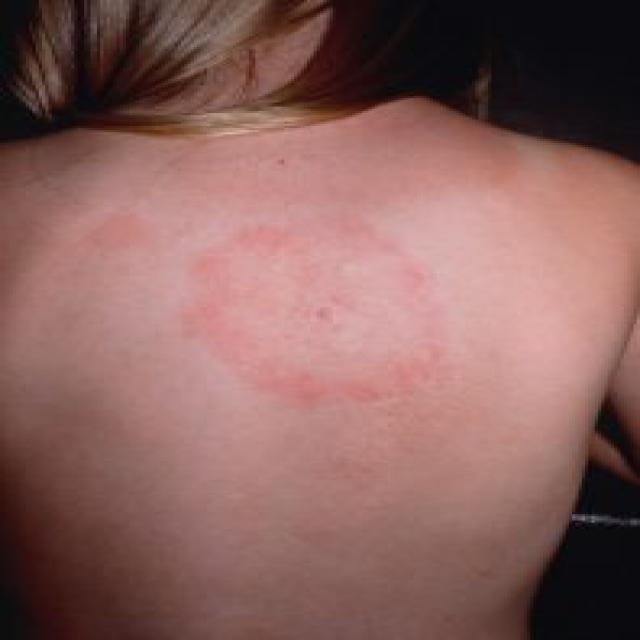Ringworm: (180, 197, 458, 423)
